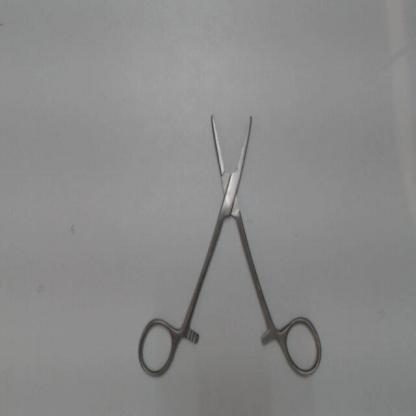Mayo Needle Holder: (132, 99, 330, 384)
